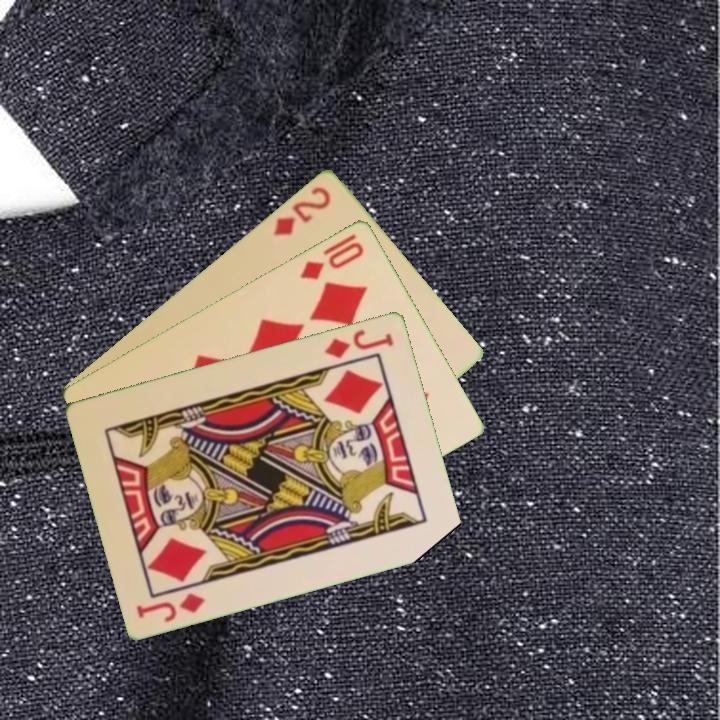10d: (296, 237, 367, 282)
2d: (269, 182, 334, 238)
Jd: (133, 588, 208, 625), (321, 325, 397, 361)
